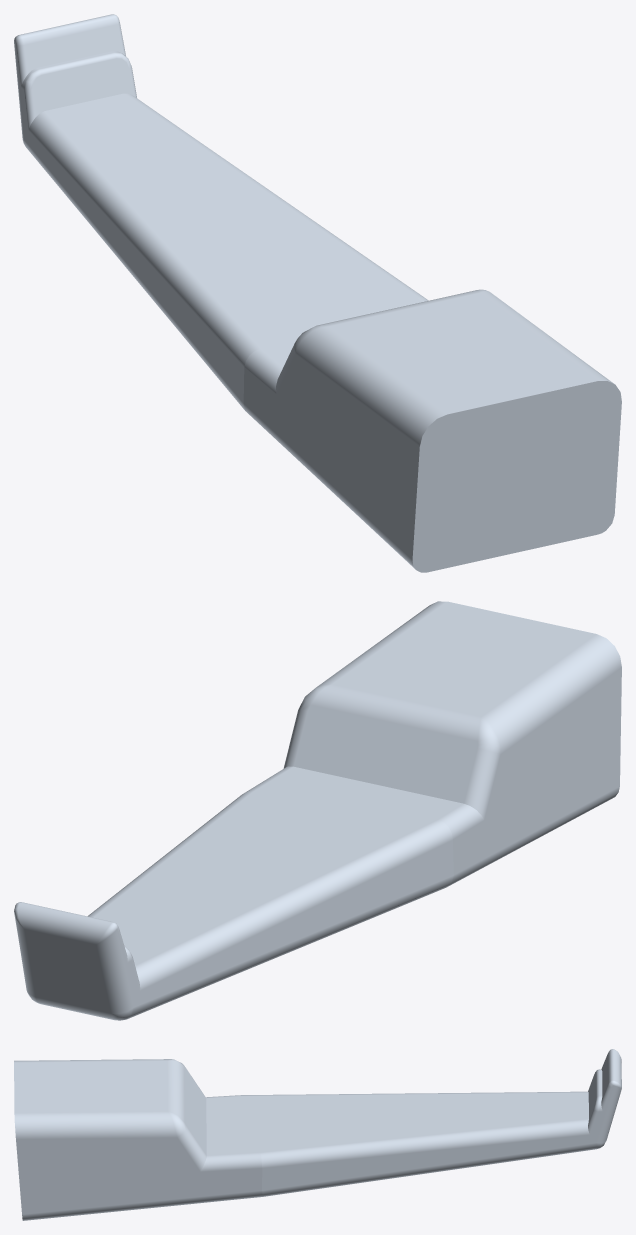
The model's file is RB-006_viewer.glb.
3 views of the same model, one above another, from view 1: azimuth 30°, elevation 25°; view 2: azimuth 150°, elevation 25°; view 3: azimuth 270°, elevation 25° (orthographic). The views are drawn at different scales.
Visible parts, largest first — view 1: basebody_imported1; view 2: basebody_imported1; view 3: basebody_imported1.
Part boxes in pixels (x1,y1,x2,y2): basebody_imported1: (14, 14, 621, 572); basebody_imported1: (14, 601, 621, 1020); basebody_imported1: (14, 1049, 621, 1220).
Bounding box in the file's own units: 0.00198 × 0.00183 × 0.00775.
